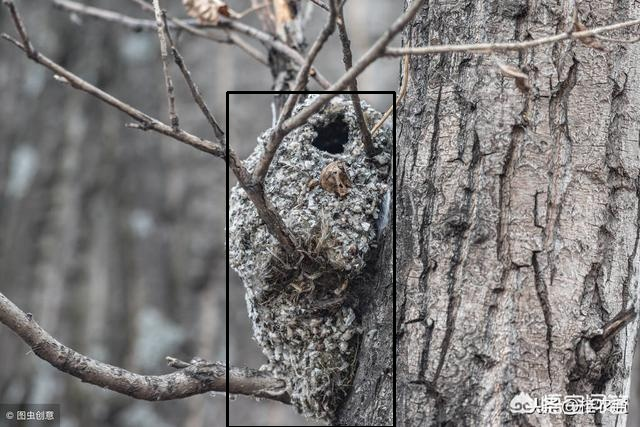bird-nest: (227, 92, 394, 427)
